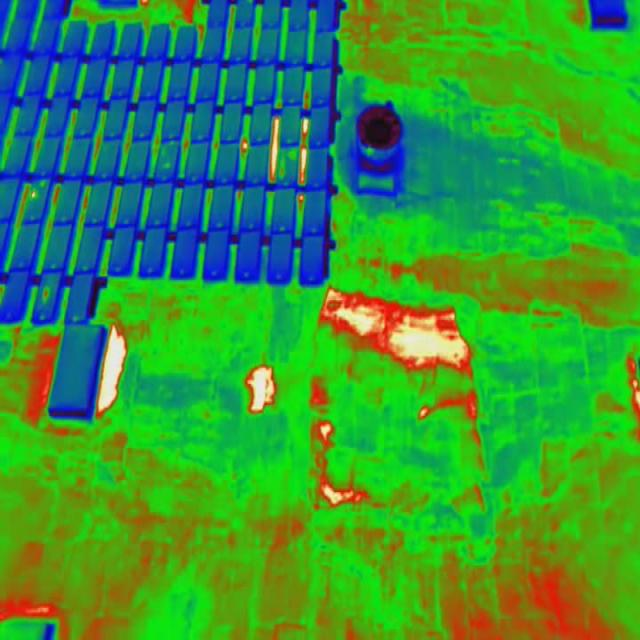Orange-Spots: (279, 160, 285, 178), (289, 149, 297, 160), (43, 288, 49, 300), (30, 191, 38, 198), (39, 182, 46, 188), (247, 0, 251, 2)
